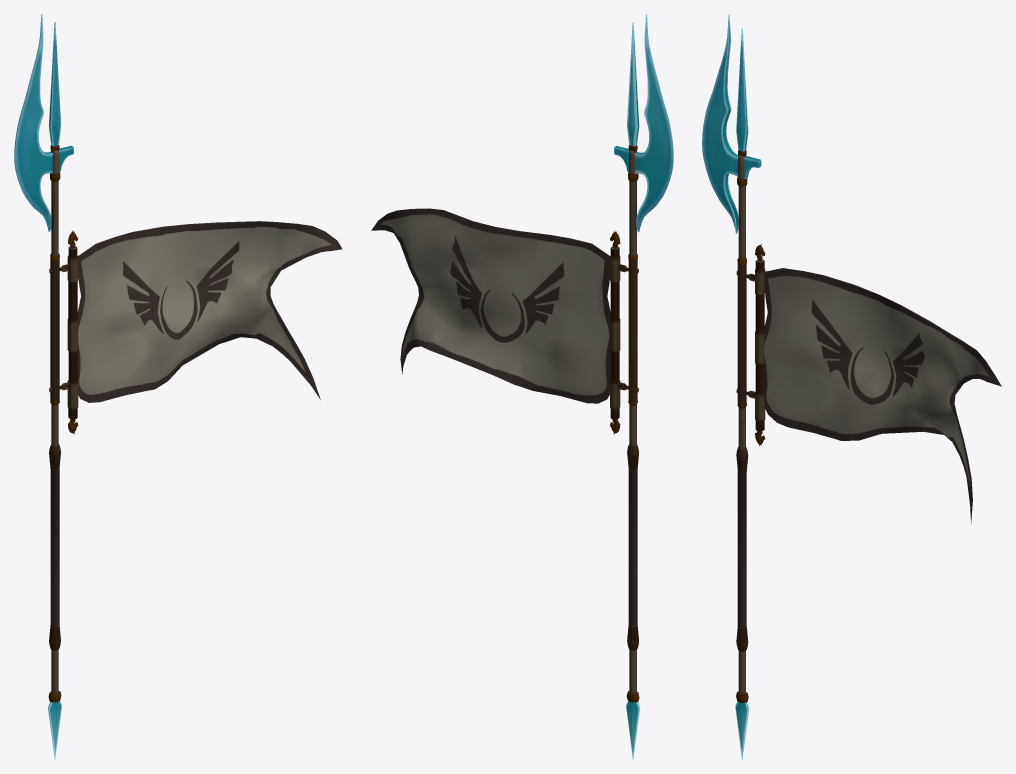
File: копье.fbx
3 views of the same model, side by side, from view 1: azimuth 30°, elevation 25°; view 2: azimuth 150°, elevation 25°; view 3: azimuth 330°, elevation 25° (orthographic).
Visible parts, largest first — view 1: Plane.005_low.002, Plane.005_low, Plane.005_low.001; view 2: Plane.005_low.002, Plane.005_low, Plane.005_low.001; view 3: Plane.005_low.002, Plane.005_low, Plane.005_low.001.
Part boxes in pixels (x1,y1,x2,y2): Plane.005_low.002: (59, 221, 342, 434); Plane.005_low: (14, 14, 73, 759); Plane.005_low.001: (49, 444, 60, 650); Plane.005_low.002: (371, 208, 628, 434); Plane.005_low: (614, 14, 673, 759); Plane.005_low.001: (627, 444, 638, 650); Plane.005_low.002: (745, 244, 1001, 523); Plane.005_low: (702, 14, 761, 759); Plane.005_low.001: (736, 447, 748, 651).
Bounding box in the file's own units: 186 × 423 × 27.99.
Materials: 1 (1 with a texture image).
